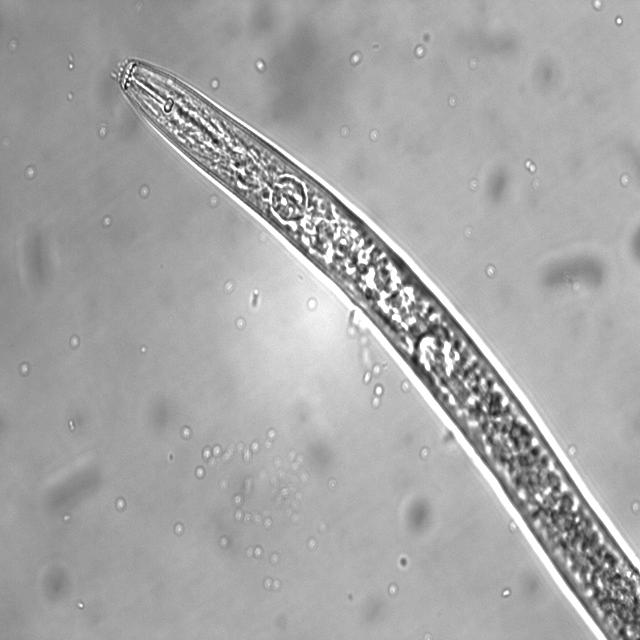Pratylenchus: (101, 50, 640, 640)
